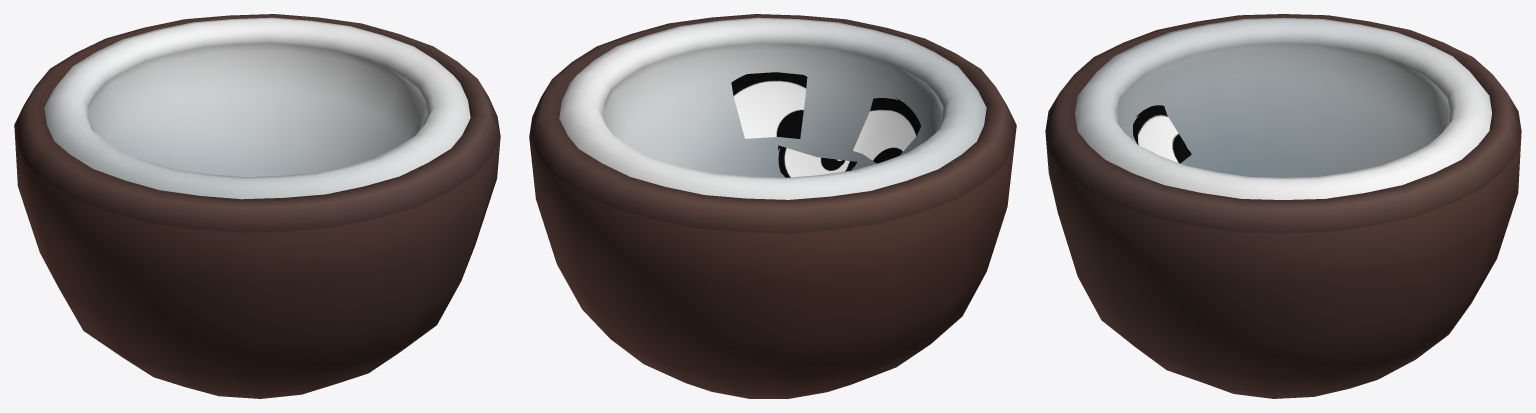
Rendered from coconut_smile.fbx.
3 renders of one model, left to right at view 1: azimuth 30°, elevation 25°; view 2: azimuth 150°, elevation 25°; view 3: azimuth 270°, elevation 25°, orthographic.
Parts seen in each view (by area): view 1: coconut; view 2: coconut; view 3: coconut.
Boxes of the visible parts, left/top/right/bottom form: coconut: left=14, top=14, right=500, bottom=398; coconut: left=529, top=14, right=1016, bottom=398; coconut: left=1045, top=14, right=1521, bottom=398.
Size of the model in its own units: 53.82 by 52.91 by 33.24.
